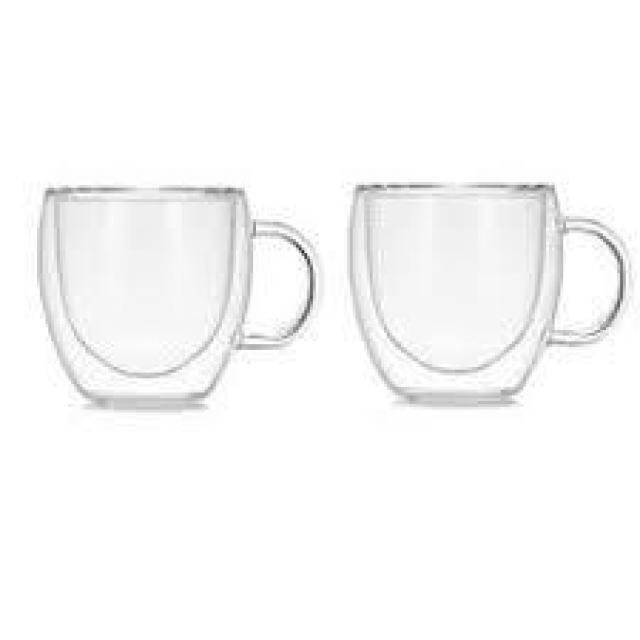non-organic waste: (32, 183, 324, 414)
